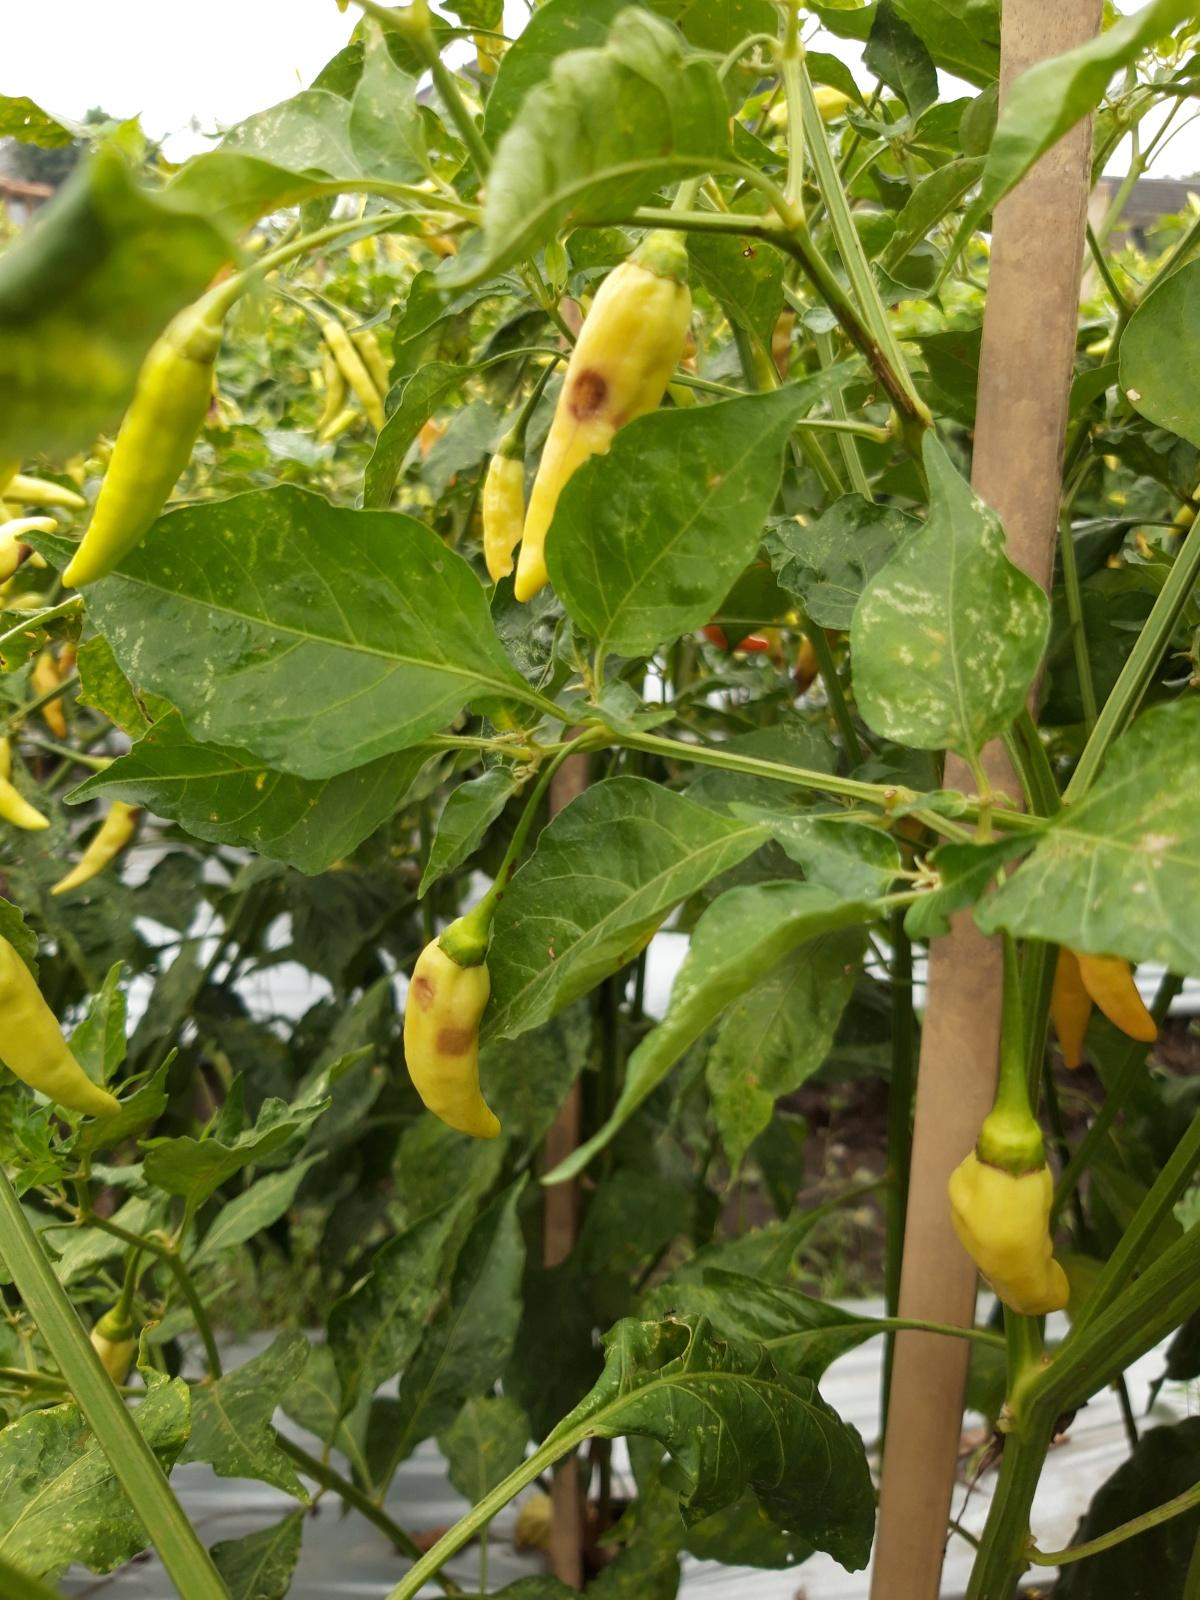cabai_normal: (61, 311, 223, 592), (942, 1120, 1073, 1319), (478, 431, 532, 586), (321, 321, 386, 435)
lalat_buah: (516, 231, 693, 605), (400, 918, 504, 1143)
